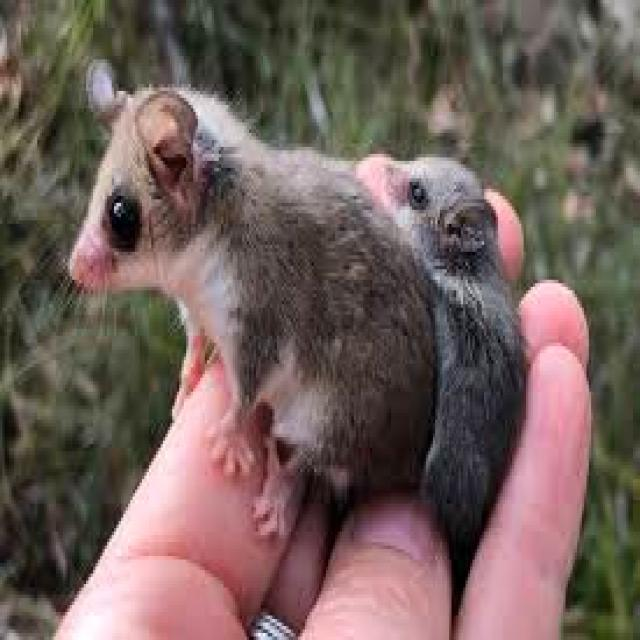possum: (67, 59, 433, 535), (379, 157, 519, 556)
